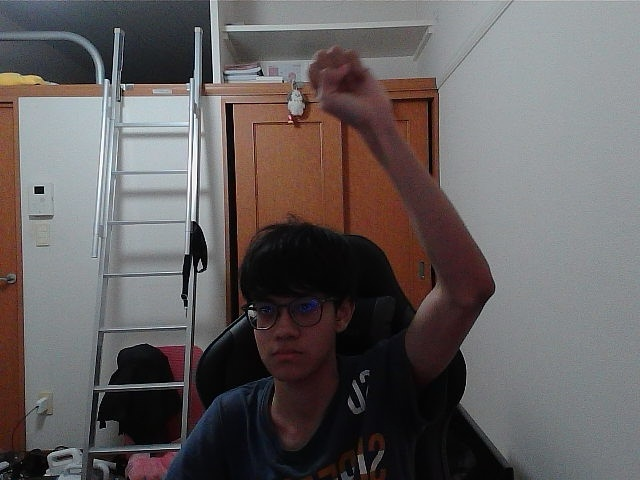closed_palm: (315, 52, 374, 111)
